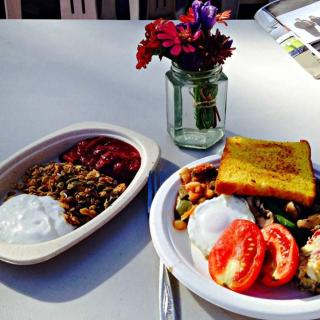tomato: (208, 218, 267, 294), (260, 220, 298, 288)
